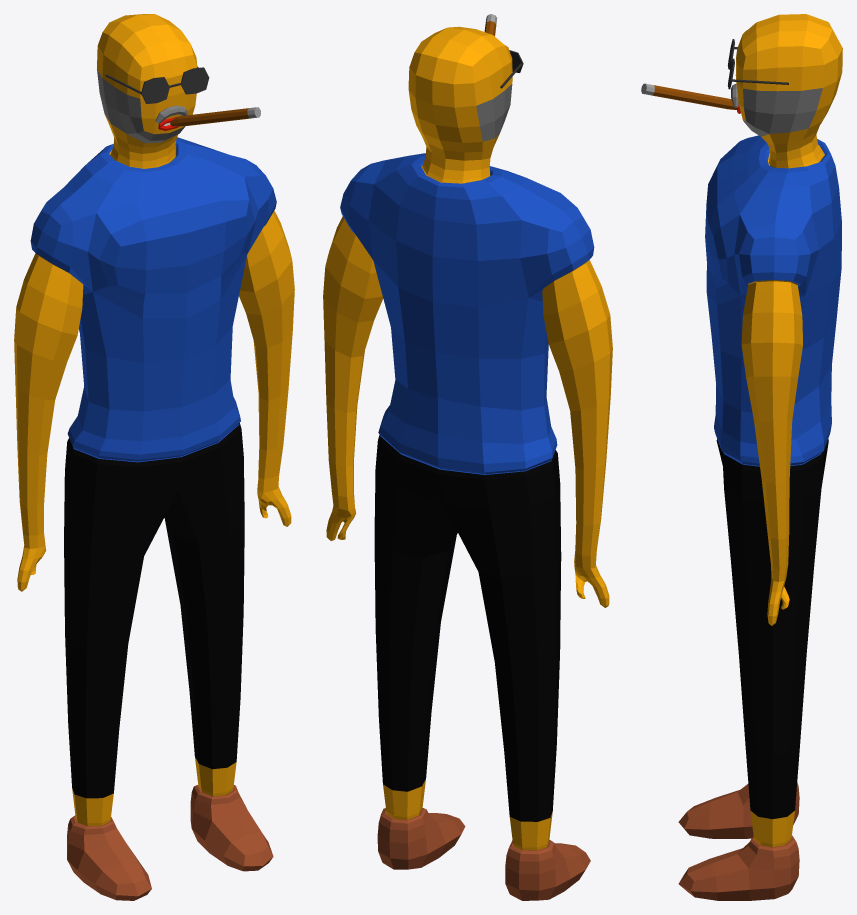
File: andrew_tate_2.fbx
3 views of the same model, side by side, from view 1: azimuth 30°, elevation 25°; view 2: azimuth 150°, elevation 25°; view 3: azimuth 270°, elevation 25° (orthographic). The views are drawn at different scales.
Visible parts, largest first — view 1: Cylinder; view 2: Cylinder; view 3: Cylinder.
Part boxes in pixels (x1=…): Cylinder: x1=14, y1=14, x2=294, y2=900; Cylinder: x1=323, y1=14, x2=612, y2=900; Cylinder: x1=641, y1=14, x2=842, y2=900.
Size of the model in its own units: 241 by 696 by 150.
